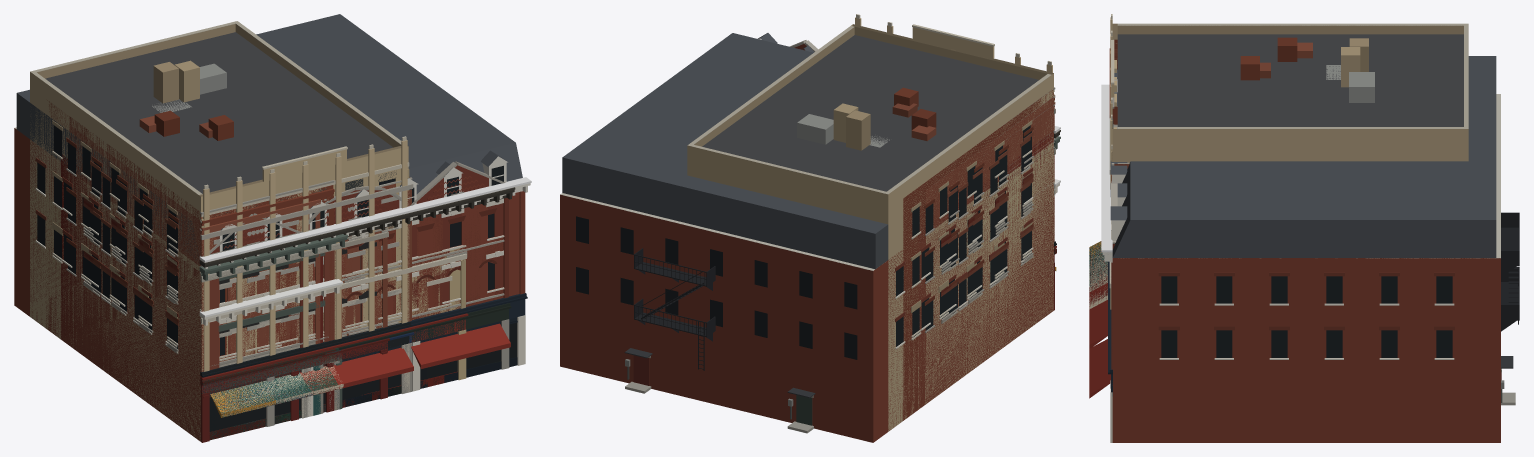
Rendered from mainst.glb.
3 views of the same model, side by side, from view 1: azimuth 30°, elevation 25°; view 2: azimuth 150°, elevation 25°; view 3: azimuth 270°, elevation 25° (orthographic). The views are drawn at different scales.
Parts seen in each view (by area): view 1: lukewarm_0, monotony_0, barrel_0, secondguess_0, gridbear_0, chaperone_0, bleached_0, overdue_0, hemming_0, smallchange_0, jack_0, pressed_0 (+9 smaller); view 2: monotony_0, lukewarm_0, bleached_0, barrel_0, hemming_0, chaperone_0, gridbear_0, overdue_0, smallchange_0, secondguess_0, pressed_0, lukewarm_1 (+1 smaller); view 3: monotony_0, lukewarm_0, hemming_0, secondguess_0, overdue_0, gridbear_0, chaperone_0, hemming_1.
Part boxes in pixels (<box>): lukewarm_0: <box>30,21,411,438</box>; monotony_0: <box>14,14,531,434</box>; barrel_0: <box>69,191,389,442</box>; secondguess_0: <box>61,161,515,426</box>; gridbear_0: <box>61,171,348,439</box>; chaperone_0: <box>69,115,321,438</box>; bleached_0: <box>69,178,340,439</box>; overdue_0: <box>76,143,414,436</box>; hemming_0: <box>45,99,336,440</box>; smallchange_0: <box>30,185,468,440</box>; jack_0: <box>76,218,342,439</box>; pressed_0: <box>61,154,325,430</box>; monotony_0: <box>560,33,1060,442</box>; lukewarm_0: <box>687,14,1056,431</box>; bleached_0: <box>926,141,1056,403</box>; barrel_0: <box>926,146,1056,403</box>; hemming_0: <box>870,87,1056,420</box>; chaperone_0: <box>911,96,1055,403</box>; gridbear_0: <box>918,136,1060,408</box>; overdue_0: <box>943,104,1055,387</box>; smallchange_0: <box>888,182,1056,431</box>; secondguess_0: <box>790,40,1060,404</box>; pressed_0: <box>919,130,1056,406</box>; lukewarm_1: <box>846,110,870,150</box>; monotony_0: <box>1101,56,1519,442</box>; lukewarm_0: <box>1108,14,1468,309</box>; hemming_0: <box>1089,39,1340,304</box>; secondguess_0: <box>1089,79,1117,398</box>; overdue_0: <box>1089,58,1129,348</box>; gridbear_0: <box>1089,243,1107,309</box>; chaperone_0: <box>1089,42,1312,286</box>; hemming_1: <box>1277,37,1297,61</box>.
Size of the model in its own units: 24.24 by 19 by 26.6.
